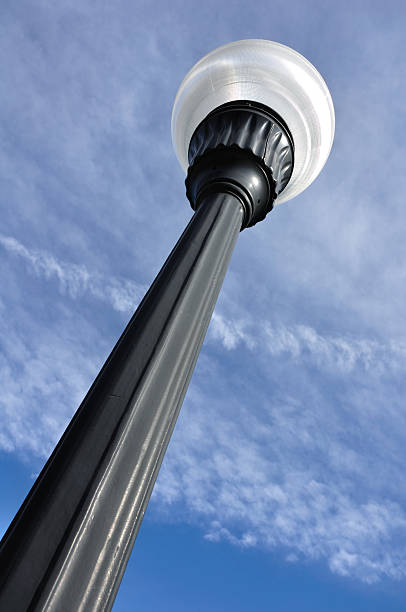light_pole: (0, 161, 243, 612)
